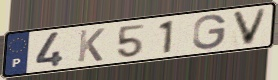1: (157, 18, 178, 55)
4: (33, 30, 68, 69)
5: (117, 22, 147, 58)
G: (191, 13, 229, 51)
K: (76, 26, 107, 64)
V: (230, 7, 270, 48)
